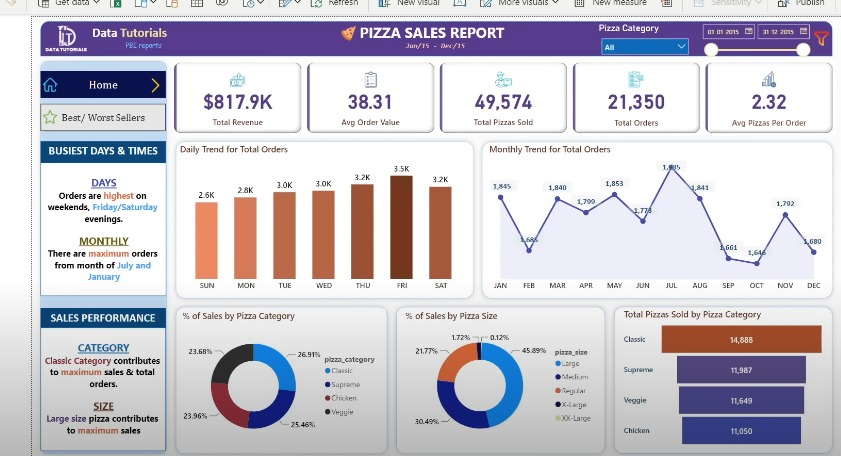

The page's visual inventory and layout, read from the dashboard file:
{"tool":"powerbi","page":{"name":"Home","canvas":[1280,900],"ordinal":0},"visuals":[{"type":"cardVisual","fields":{"Data":["public pizza_sales.Total Revenue"]},"box":[219.4,67.2,249.6,150],"z":0},{"type":"cardVisual","fields":{"Data":["public pizza_sales.Avg Order Value"]},"box":[469,67.2,216,150],"z":1000},{"type":"cardVisual","fields":{"Data":["public pizza_sales.Total Pizza Sold"]},"box":[685.1,67.2,207.1,150],"z":2000},{"type":"cardVisual","fields":{"Data":["public pizza_sales.Total Orders"]},"box":[892.2,67.2,191.4,150],"z":3000},{"type":"cardVisual","fields":{"Data":["public pizza_sales.Avg Pizza per Order"]},"box":[1072.4,68.3,207.1,150],"z":4000},{"type":"shape","box":[0,0,1280,68],"z":5000},{"type":"image","box":[811.5,9.7,67.1,44.7],"z":6000},{"type":"textbox","box":[469.4,34,342.1,39.8],"z":7000},{"type":"shape","box":[219.4,219.4,556.3,323.5],"z":8000},{"type":"image","box":[402.4,9.7,67.1,44.7],"z":9000},{"type":"columnChart","title":"Daily Trend for Total Orders","fields":{"Y":["Count(public pizza_sales.order_id)"],"Category":["public pizza_sales.Order Day"]},"box":[258.6,237.3,506,285.4],"z":10000},{"type":"shape","box":[786.3,217.7,493.7,323.6],"z":11000},{"type":"stackedAreaChart","title":"Monthly Trend for Total Orders","fields":{"Y":["Count(public pizza_sales.order_id)"],"Category":["public pizza_sales.Order Month"]},"box":[816,241.8,434.3,279.9],"z":12000},{"type":"shape","box":[595.5,540.7,321.3,359.3],"z":13000},{"type":"shape","box":[219.4,542.9,367.2,357.1],"z":14000},{"type":"donutChart","title":"% Of Sales by Pizza Category","fields":{"Category":["public pizza_sales.pizza_category"],"Y":["Sum(public pizza_sales.total_price)"]},"box":[258.6,573.1,307.8,301.1],"z":15000},{"type":"donutChart","title":"% Of Sales by Pizza Size","fields":{"Category":["public pizza_sales.pizza_size"],"Y":["Sum(public pizza_sales.total_price)"]},"box":[621.3,581,285.4,268.7],"z":16000},{"type":"textbox","box":[478,4.5,342.5,50.4],"z":17000},{"type":"shape","box":[924.6,540.7,354.9,359.3],"z":18000},{"type":"barChart","fields":{"Category":["public pizza_sales.pizza_category"],"Y":["Sum(public pizza_sales.quantity)"]},"box":[938.1,565.3,317.9,300],"z":19000},{"type":"shape","box":[0,68.3,211.6,831.7],"z":20000},{"type":"textbox","box":[12.3,278.7,184.7,29.1],"z":21000},{"type":"textbox","box":[12.3,307.8,184.7,222.8],"z":22000},{"type":"textbox","box":[11.2,574.3,184.7,29.1],"z":23000},{"type":"textbox","box":[11.2,603.4,184.7,222.8],"z":24000},{"type":"slicer","fields":{"Values":["public pizza_sales.pizza_category"]},"box":[892.2,7.8,165.7,59.3],"z":25000},{"type":"slicer","fields":{"Values":["public pizza_sales.order_date"]},"box":[50.4,0,219.4,85.1],"z":26000},{"type":"pageNavigator","box":[6.7,91.8,195.9,50.4],"z":27000},{"type":"pageNavigator","box":[7.8,155.6,195.9,50.4],"z":28000}]}

Visuals, with their boxes on the page's 1280x900 design canvas (x1, y1, x2, y2). These are canvas units, not pixel positions in the 841x456 screenshot, which may show the page scaled, cropped or inside an application window:
cardVisual - public pizza_sales.Total Revenue: BBox(219, 67, 469, 217)
cardVisual - public pizza_sales.Avg Order Value: BBox(469, 67, 685, 217)
cardVisual - public pizza_sales.Total Pizza Sold: BBox(685, 67, 892, 217)
cardVisual - public pizza_sales.Total Orders: BBox(892, 67, 1084, 217)
cardVisual - public pizza_sales.Avg Pizza per Order: BBox(1072, 68, 1280, 218)
shape: BBox(0, 0, 1280, 68)
image: BBox(812, 10, 879, 54)
textbox: BBox(469, 34, 812, 74)
shape: BBox(219, 219, 776, 543)
image: BBox(402, 10, 470, 54)
"Daily Trend for Total Orders" columnChart: BBox(259, 237, 765, 523)
shape: BBox(786, 218, 1280, 541)
"Monthly Trend for Total Orders" stackedAreaChart: BBox(816, 242, 1250, 522)
shape: BBox(596, 541, 917, 900)
shape: BBox(219, 543, 587, 900)
"% Of Sales by Pizza Category" donutChart: BBox(259, 573, 566, 874)
"% Of Sales by Pizza Size" donutChart: BBox(621, 581, 907, 850)
textbox: BBox(478, 4, 820, 55)
shape: BBox(925, 541, 1280, 900)
barChart - public pizza_sales.pizza_category x Sum(public pizza_sales.quantity): BBox(938, 565, 1256, 865)
shape: BBox(0, 68, 212, 900)
textbox: BBox(12, 279, 197, 308)
textbox: BBox(12, 308, 197, 531)
textbox: BBox(11, 574, 196, 603)
textbox: BBox(11, 603, 196, 826)
slicer - public pizza_sales.pizza_category: BBox(892, 8, 1058, 67)
slicer - public pizza_sales.order_date: BBox(50, 0, 270, 85)
pageNavigator: BBox(7, 92, 203, 142)
pageNavigator: BBox(8, 156, 204, 206)
